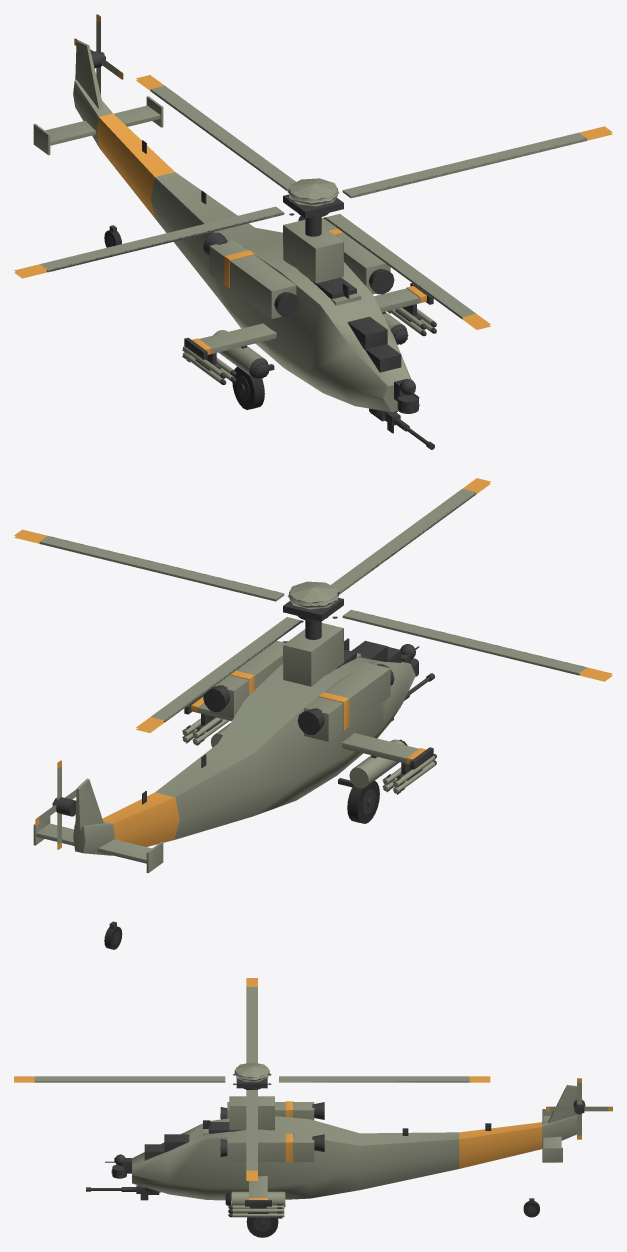
File: heli.glb
The picture shows the model from 3 angles, top to bottom: view 1: azimuth 30°, elevation 25°; view 2: azimuth 150°, elevation 25°; view 3: azimuth 270°, elevation 25°; orthographic projection. The views are drawn at different scales.
Parts seen in each view (by area): view 1: body, rotor_main; view 2: body, rotor_main, rotor_tail; view 3: body, rotor_main, rotor_tail.
Part boxes in pixels (x1,y1,x2,y2): body: (33, 40, 436, 449); rotor_main: (14, 75, 612, 329); body: (33, 616, 436, 949); rotor_main: (14, 478, 612, 732); rotor_tail: (35, 760, 76, 849); body: (86, 1084, 585, 1237); rotor_main: (14, 978, 490, 1180); rotor_tail: (546, 1078, 612, 1139).
Size of the model in its own units: 11.5 by 3.99 by 14.46.
